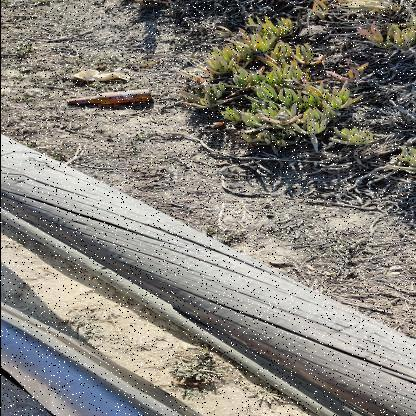glass: (65, 89, 153, 104)
